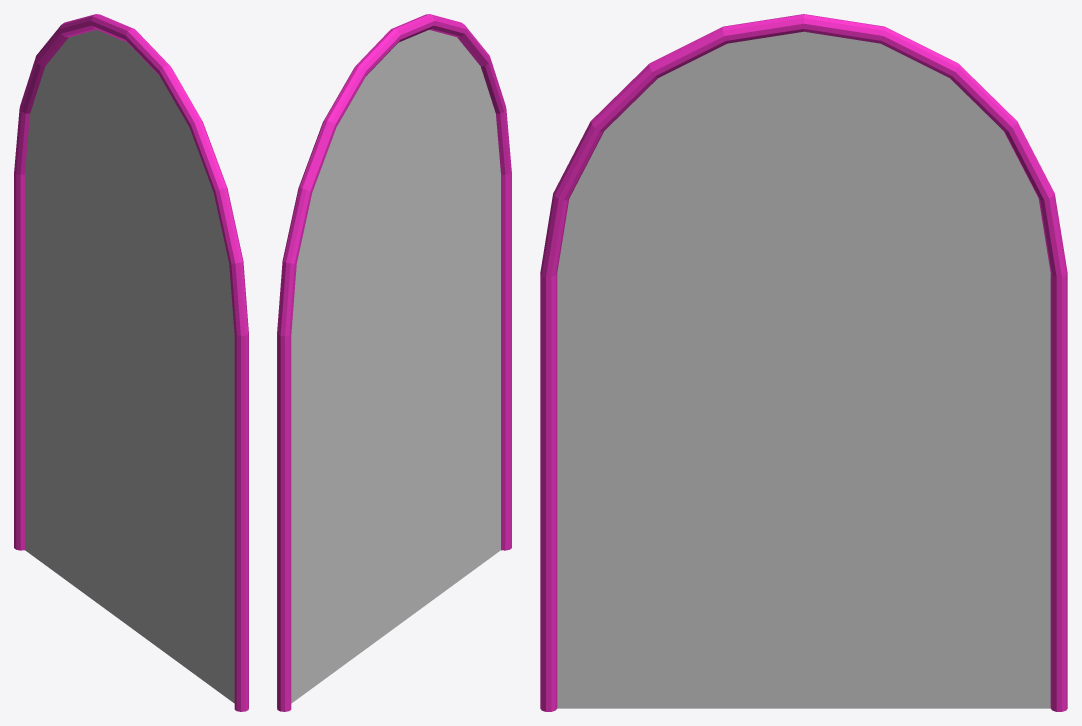
The model's file is gate.fbx.
The picture shows the model from 3 angles, left to right: view 1: azimuth 30°, elevation 25°; view 2: azimuth 150°, elevation 25°; view 3: azimuth 270°, elevation 25°; orthographic projection. The views are drawn at different scales.
Visible parts, largest first — view 1: gate1; view 2: gate1; view 3: gate1.
Boxes of the visible parts, x1,y1,x2,y2 form: gate1: (14, 14, 248, 711); gate1: (277, 14, 511, 711); gate1: (540, 14, 1067, 711).
Bounding box in the file's own units: 9.51 × 450 × 310.
